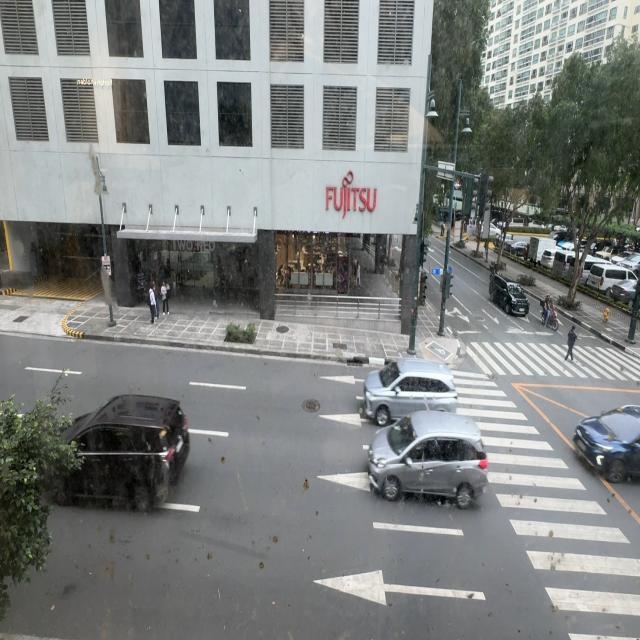crossing: (565, 325, 580, 360)
